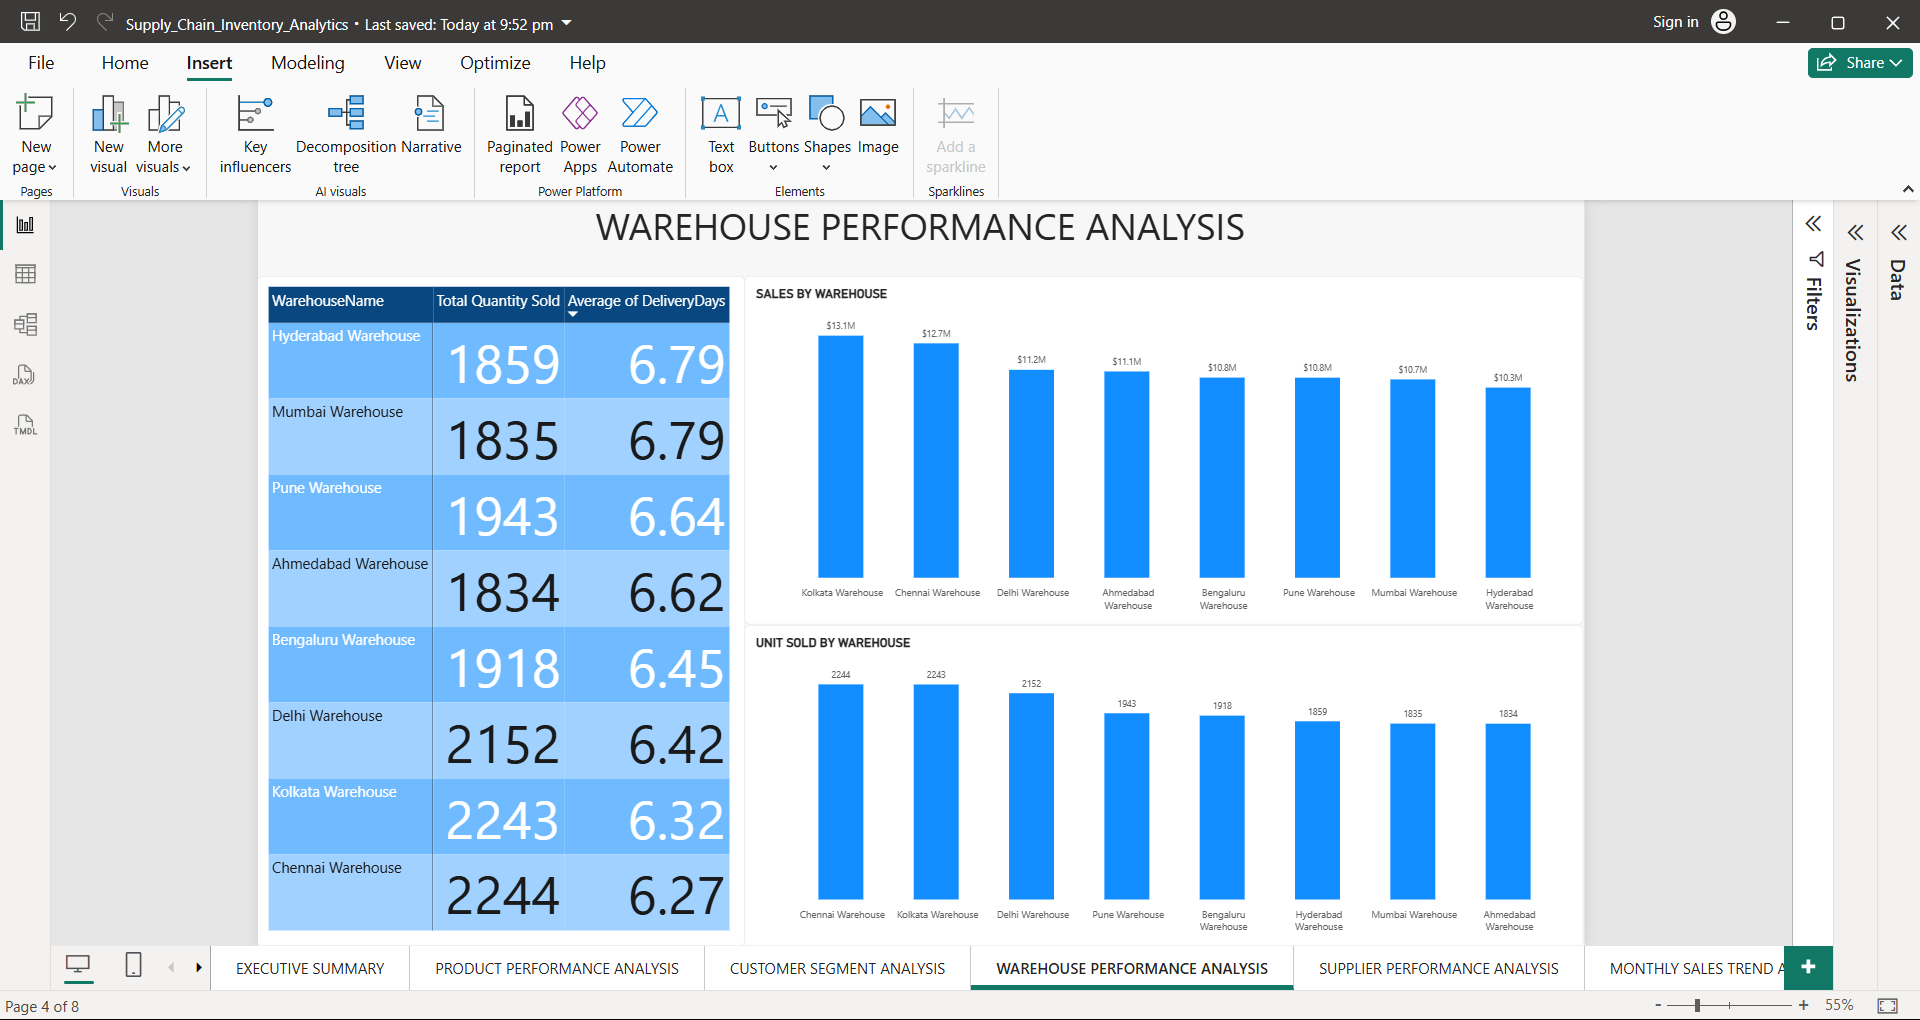

The page's visual inventory and layout, read from the dashboard file:
{"tool":"powerbi","page":{"name":"WAREHOUSE PERFORMANCE ANALYSIS","canvas":[1920,1080],"ordinal":3},"visuals":[{"type":"textbox","box":[0,0,1920.4,92.6],"z":0},{"type":"clusteredColumnChart","title":"SALES BY WAREHOUSE","fields":{"Category":["Warehouse.WarehouseName"],"Y":["Business Measures.Total Sales"]},"box":[706,111.1,1214.4,504.3],"z":1000},{"type":"clusteredColumnChart","title":"UNIT SOLD BY WAREHOUSE","fields":{"Category":["Warehouse.WarehouseName"],"Y":["Business Measures.Total Quantity Sold"]},"box":[706,615.4,1214.4,465.2],"z":2000},{"type":"pivotTable","fields":{"Rows":["Warehouse.WarehouseName"],"Values":["Business Measures.Total Quantity Sold","Avg(Orders.DeliveryDays)"]},"box":[0,111.1,706,969.5],"z":3000}]}

Visuals, with their boxes on the page's 1920x1080 design canvas (x1, y1, x2, y2). These are canvas units, not pixel positions in the 1920x1020 screenshot, which may show the page scaled, cropped or inside an application window:
textbox: {"left": 0, "top": 0, "right": 1920, "bottom": 93}
"SALES BY WAREHOUSE" clusteredColumnChart: {"left": 706, "top": 111, "right": 1920, "bottom": 615}
"UNIT SOLD BY WAREHOUSE" clusteredColumnChart: {"left": 706, "top": 615, "right": 1920, "bottom": 1081}
pivotTable - Warehouse.WarehouseName x Business Measures.Total Quantity Sold: {"left": 0, "top": 111, "right": 706, "bottom": 1081}
